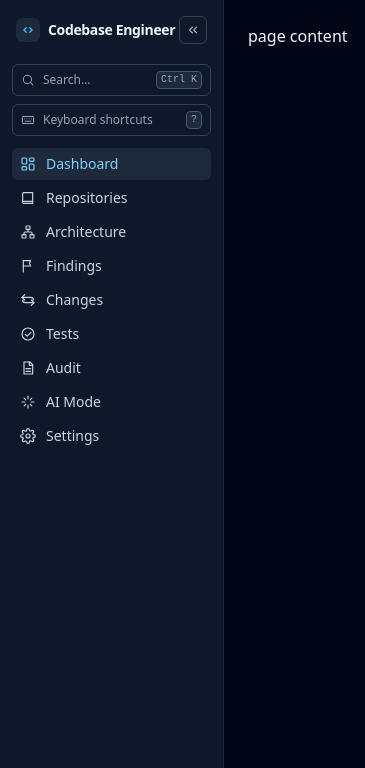
Test: NavShell sidebar collapse (Task #88) › collapses to icon-only on click, and persists the choice across a remount
Click the button named "Collapse sidebar". click: [193, 30]
box: [179,16,207,44]
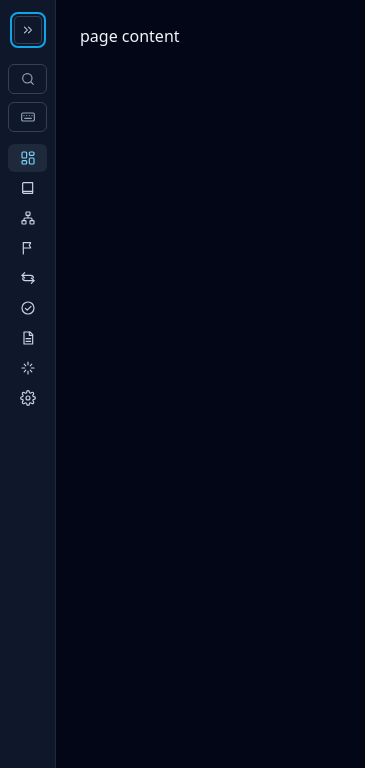
Expected: the link titled "Repositories" is shown, [20,180,36,196]
Expected: the text "Repositories" is gone
